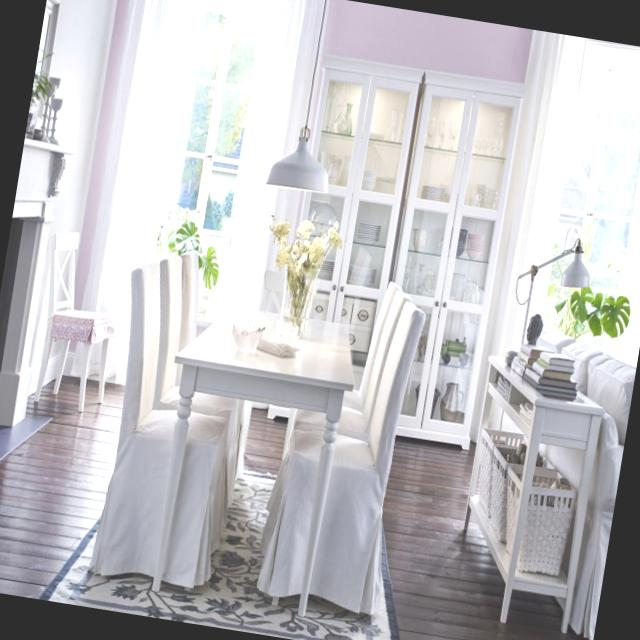obstacle: (82, 234, 432, 632), (430, 300, 640, 640), (22, 222, 134, 420)
